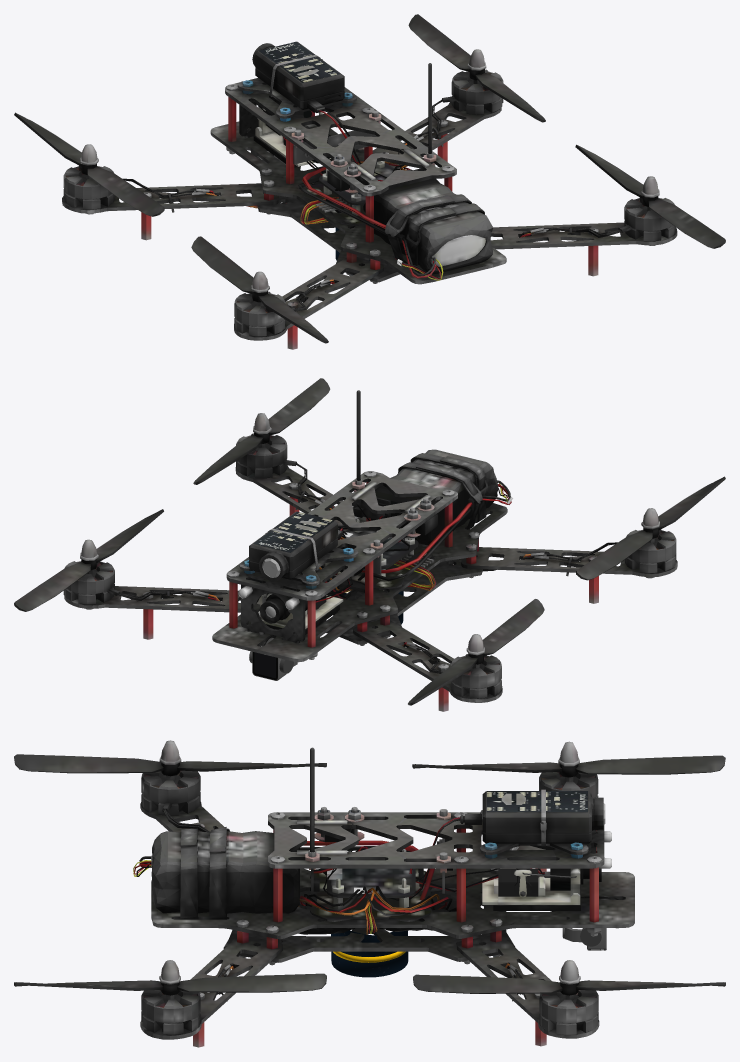
The model's file is Blender2-optimized.glb.
3 renders of one model, top to bottom at view 1: azimuth 30°, elevation 25°; view 2: azimuth 150°, elevation 25°; view 3: azimuth 270°, elevation 25°, orthographic. The views are drawn at different scales.
Parts seen in each view (by area): view 1: Drone01_Drone01_0, PX4; view 2: Drone01_Drone01_0, PX4, camera; view 3: Drone01_Drone01_0, PX4, LiDAR, Camera Folded.
Boxes of the visible parts, <box> form: Drone01_Drone01_0: <box>14,14,725,349</box>; PX4: <box>259,41,339,82</box>; Drone01_Drone01_0: <box>14,378,725,711</box>; PX4: <box>253,511,334,552</box>; camera: <box>252,646,286,680</box>; Drone01_Drone01_0: <box>14,740,725,1047</box>; PX4: <box>486,791,587,812</box>; LiDAR: <box>331,930,408,977</box>; Camera Folded: <box>562,928,601,946</box>.
Bounding box in the file's own units: 76.52 × 34.38 × 93.88.
Materials: 8 (5 with a texture image).
